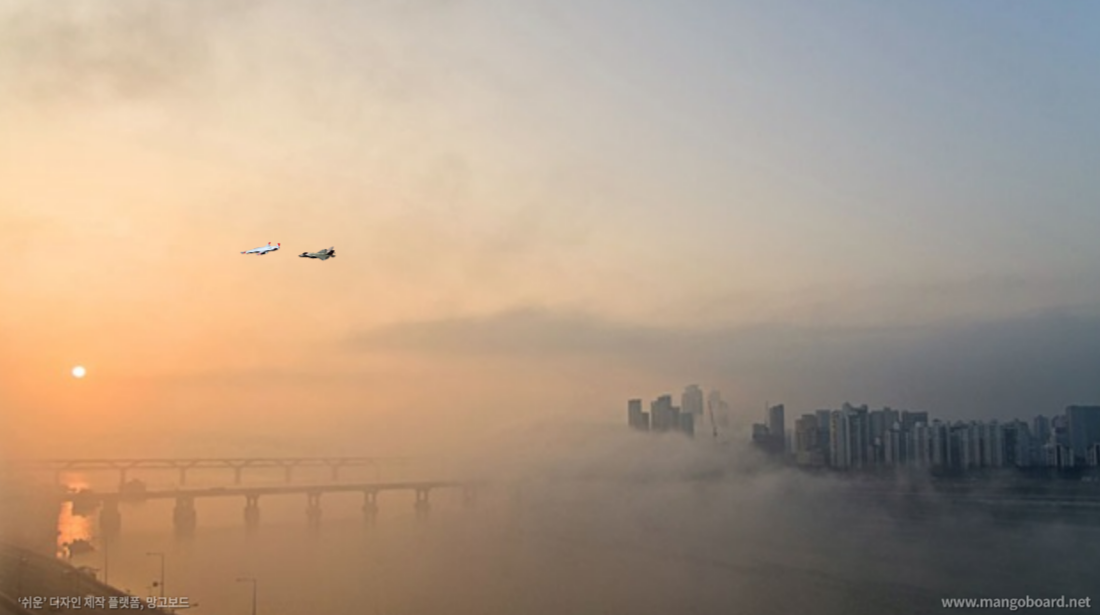airplane: (297, 245, 336, 260)
military drone: (239, 241, 280, 255)
